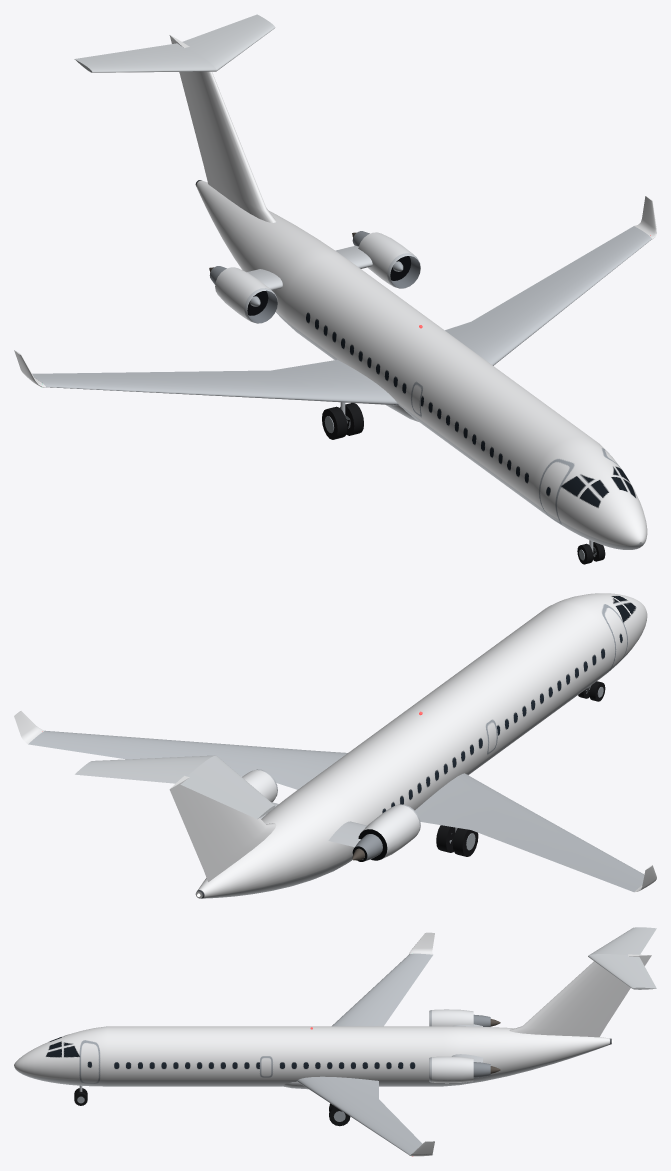
Rendered from crj2.glb.
3 views of the same model, one above another, from view 1: azimuth 30°, elevation 25°; view 2: azimuth 150°, elevation 25°; view 3: azimuth 270°, elevation 25° (orthographic). The views are drawn at different scales.
Parts seen in each view (by area): view 1: body, gear; view 2: body, gear; view 3: body, gear.
Part boxes in pixels (x1,y1,x2,y2): body: (14,14,656,549); gear: (322,402,605,564); body: (14,593,656,898); gear: (436,681,605,856); body: (14,927,656,1156); gear: (74,1085,350,1126).
Size of the model in its own units: 22.13 by 7.36 by 28.79.
19 materials, 1 textured.
